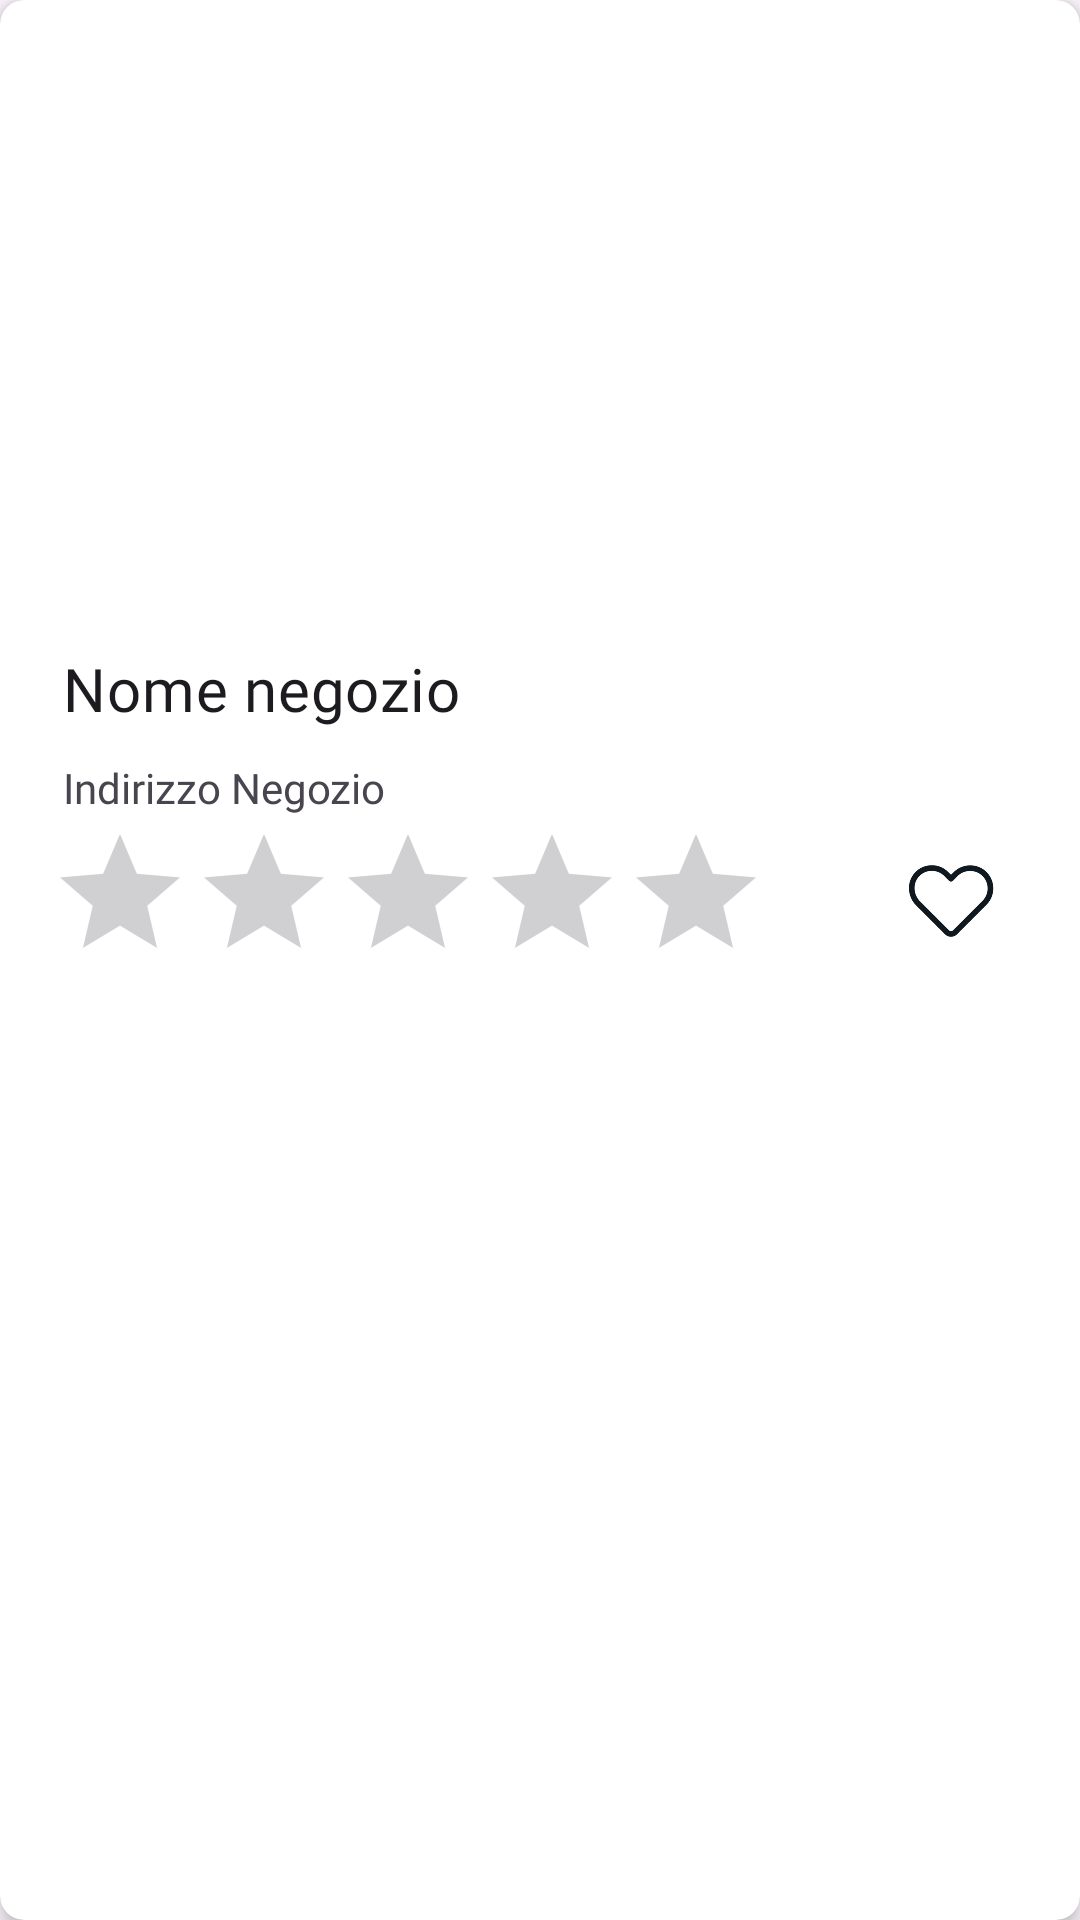

Screen size 1080 × 1920. Icon name, then its center in pixels as point (x, y):
notfav: point (951, 901)
